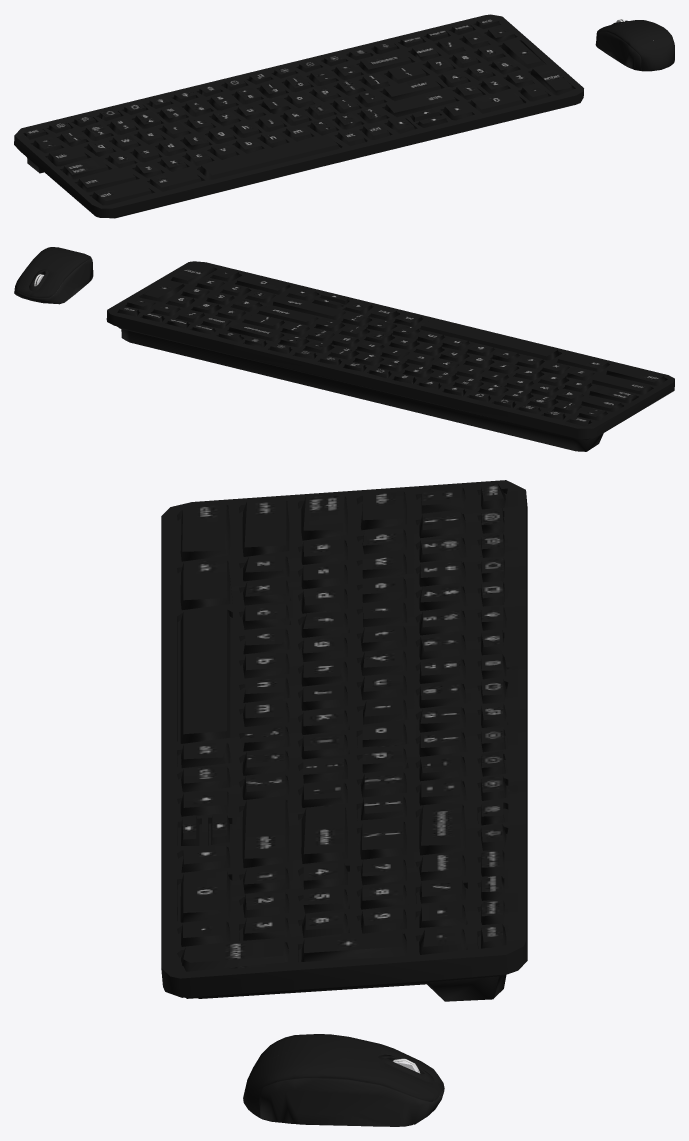
Rendered from keyboard_mouse_black.glb.
The picture shows the model from 3 angles, top to bottom: view 1: azimuth 30°, elevation 25°; view 2: azimuth 150°, elevation 25°; view 3: azimuth 270°, elevation 25°; orthographic projection. The views are drawn at different scales.
Visible parts, largest first — view 1: keyboard.001, mouse.001; view 2: keyboard.001, mouse.001; view 3: keyboard.001, mouse.001.
Boxes of the visible parts, bbox=[...] form: keyboard.001: bbox=[14, 14, 583, 218]; mouse.001: bbox=[595, 19, 674, 71]; keyboard.001: bbox=[106, 261, 674, 451]; mouse.001: bbox=[14, 247, 93, 304]; keyboard.001: bbox=[161, 480, 527, 1001]; mouse.001: bbox=[243, 1034, 444, 1126].
Bounding box in the file's own units: 0.4647 × 0.0233 × 0.1217.
Materials: 2 (2 with a texture image).
